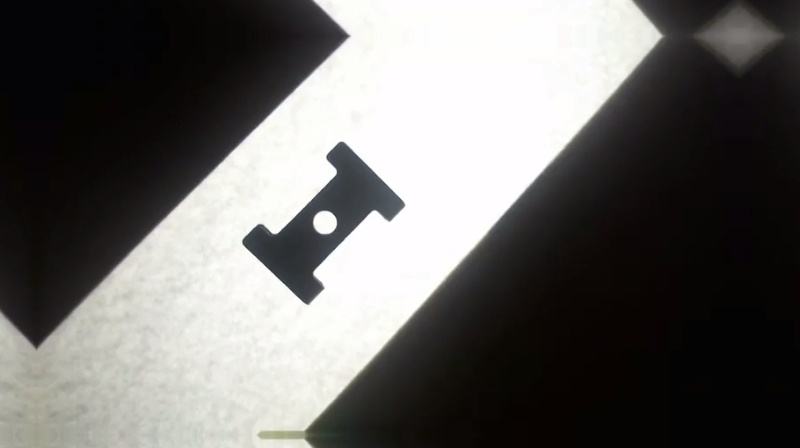O002: (238, 138, 406, 307)
